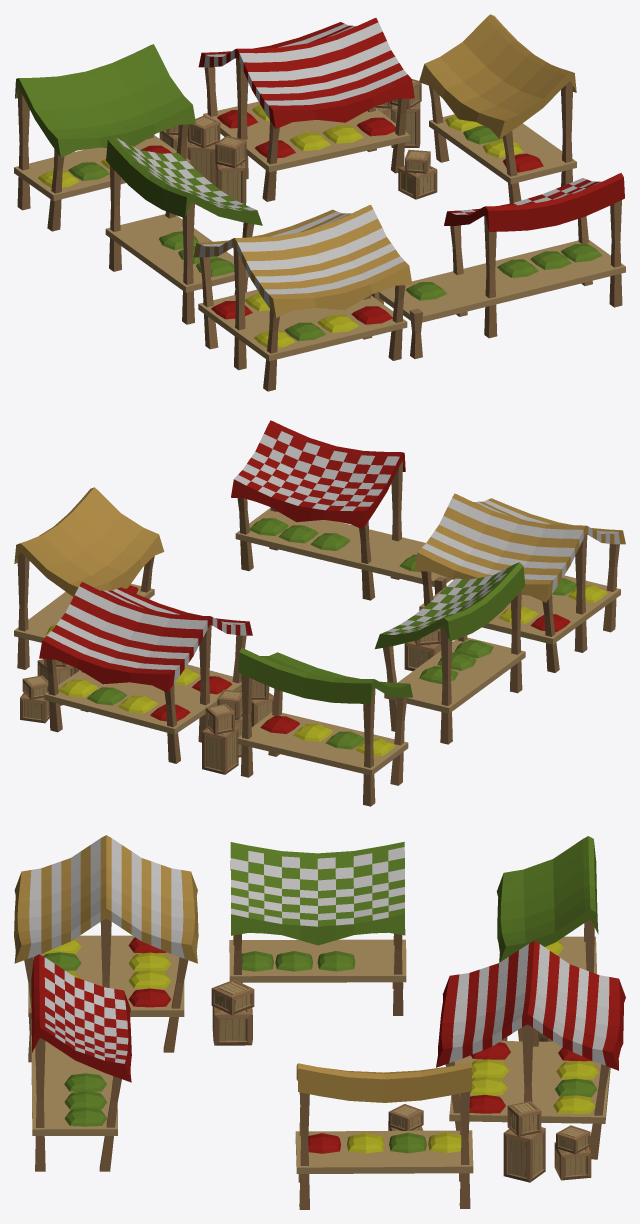
The model's file is Market_FirstAge_Level3.glb.
The picture shows the model from 3 angles, top to bottom: view 1: azimuth 30°, elevation 25°; view 2: azimuth 150°, elevation 25°; view 3: azimuth 270°, elevation 25°; orthographic projection. The views are drawn at different scales.
Visible parts, largest first — view 1: Market_FirstAge_Level3; view 2: Market_FirstAge_Level3; view 3: Market_FirstAge_Level3.
Boxes of the visible parts, x1,y1,x2,y2 form: Market_FirstAge_Level3: (14,14,625,391); Market_FirstAge_Level3: (14,420,625,806); Market_FirstAge_Level3: (14,835,625,1209).
Bounding box in the file's own units: 1.89 × 0.5527 × 2.11.
1 material, 1 textured.
